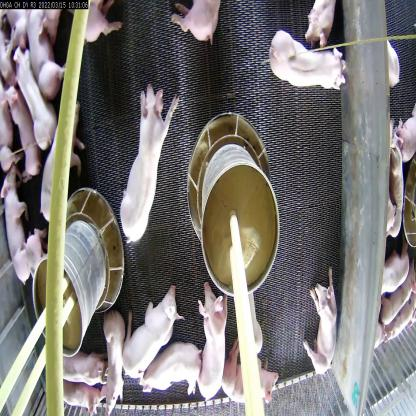Pig: (120, 79, 194, 251), (39, 101, 93, 227), (273, 21, 352, 99), (0, 171, 52, 288), (121, 272, 174, 386), (83, 308, 137, 415), (145, 330, 205, 404), (196, 282, 232, 398), (221, 349, 284, 415), (25, 14, 72, 101), (12, 44, 52, 146), (158, 1, 223, 43)
